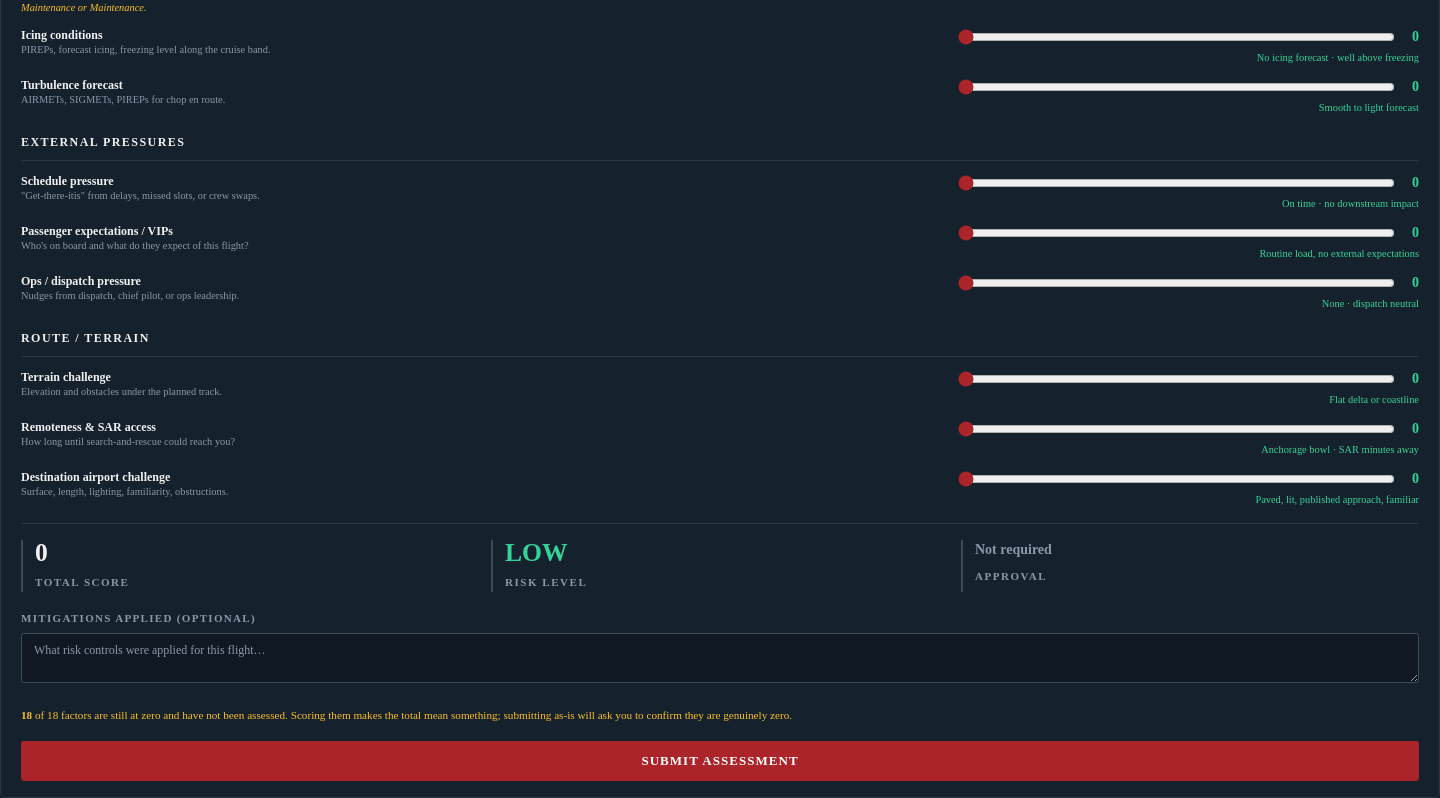
Test case: factors nobody assessed › asks for confirmation instead of filing silently
(page scrolled)
Click the button "Submit assessment" at (720, 761), box [21,741,1419,781]
(page scrolled)
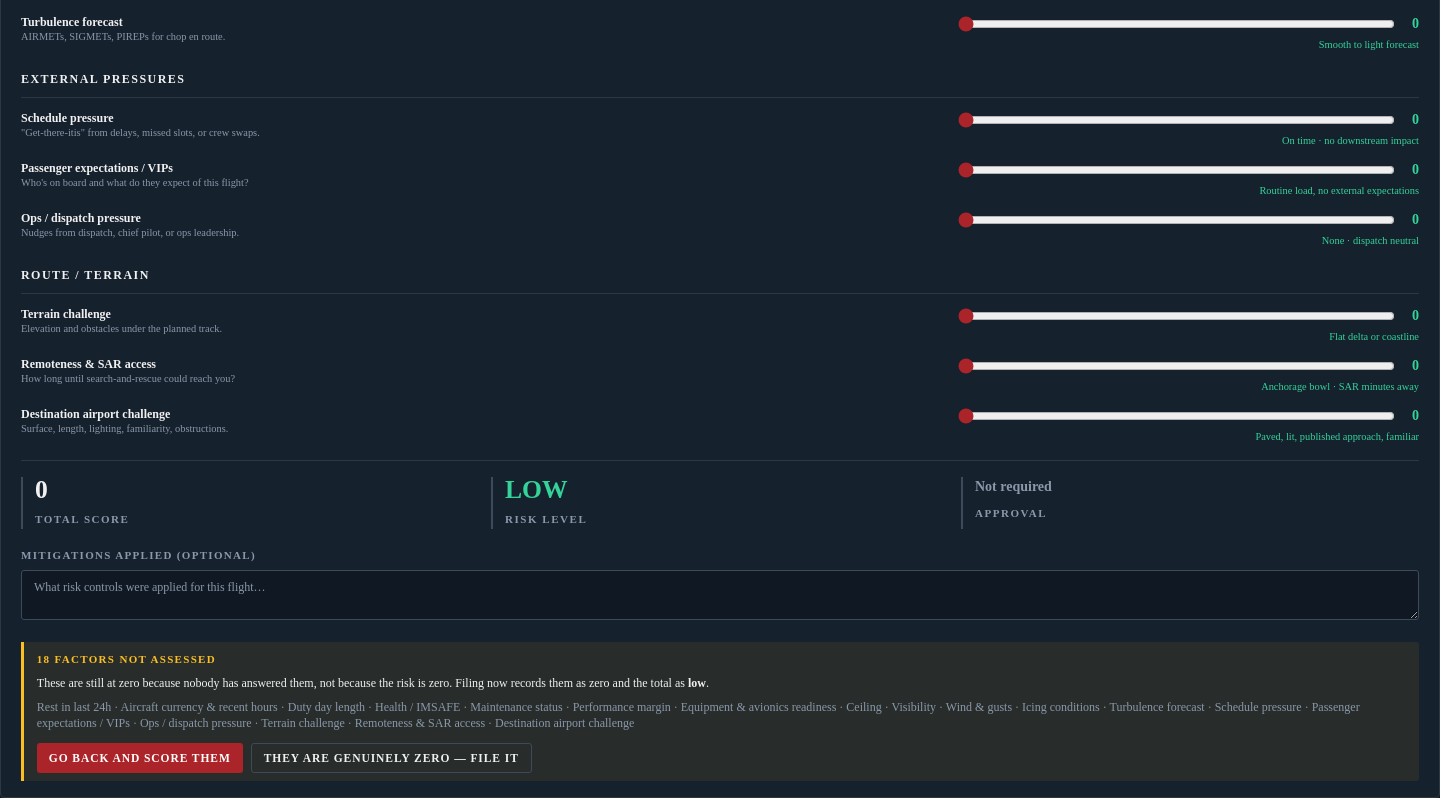
expect the dialog shows "not assessed": met, box [115,653,216,665]
expect the dialog shows "not because the risk is zero": met, box [37,676,685,690]
